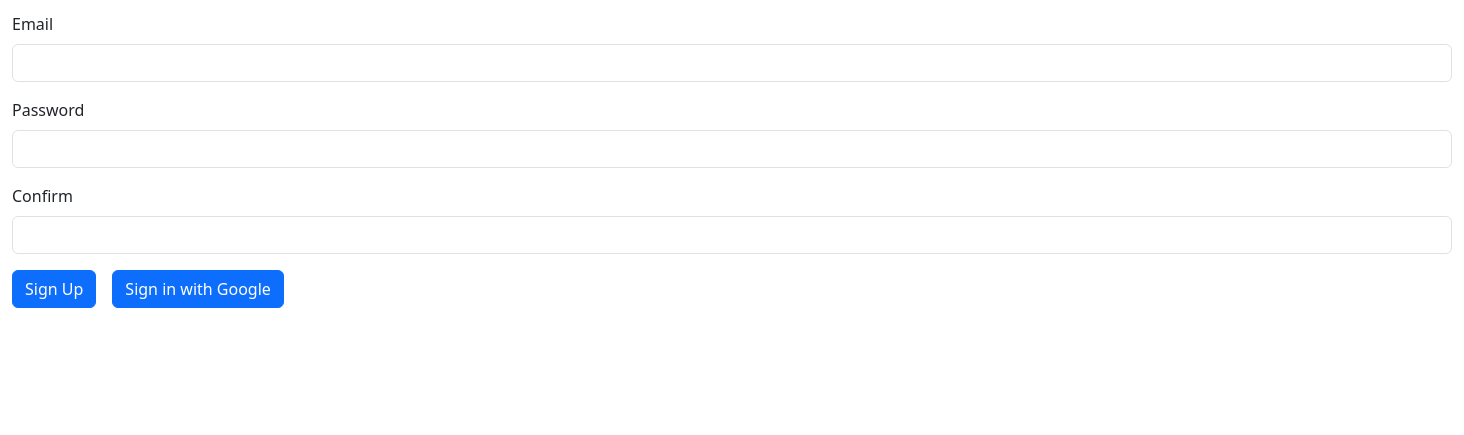
sign-up form › rejects mismatched passwords
The image size is (1464, 435).
Type "person@example.com" into the field labelled "Email".
click(732, 63); type("person@example.com")  # box x1=12 y1=44 x2=1452 y2=82
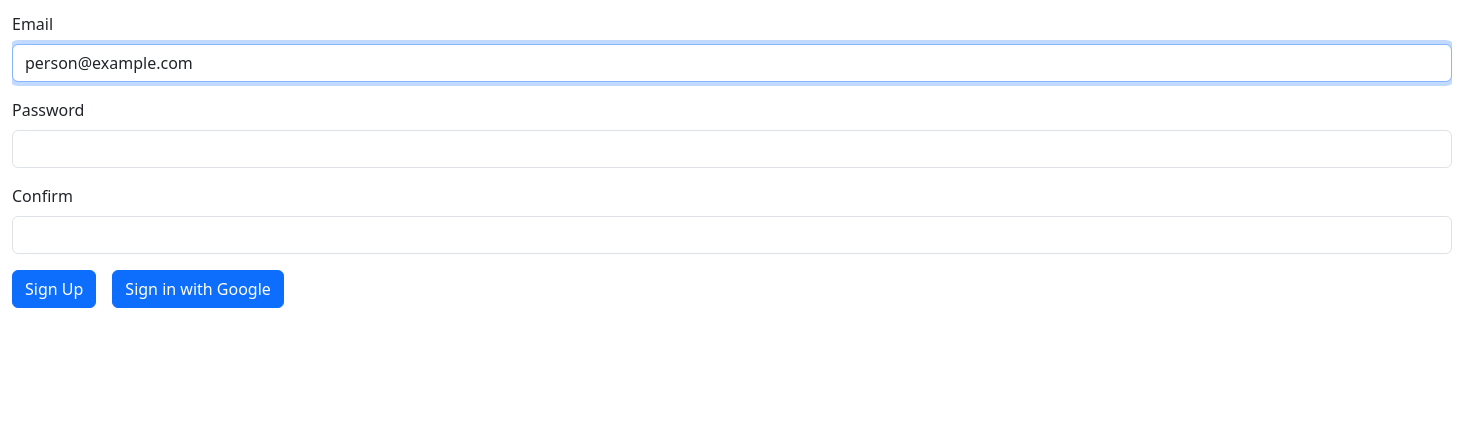
Type "secret123" into the password field labelled "Password".
click(732, 149); type("secret123")  # box x1=12 y1=130 x2=1452 y2=168
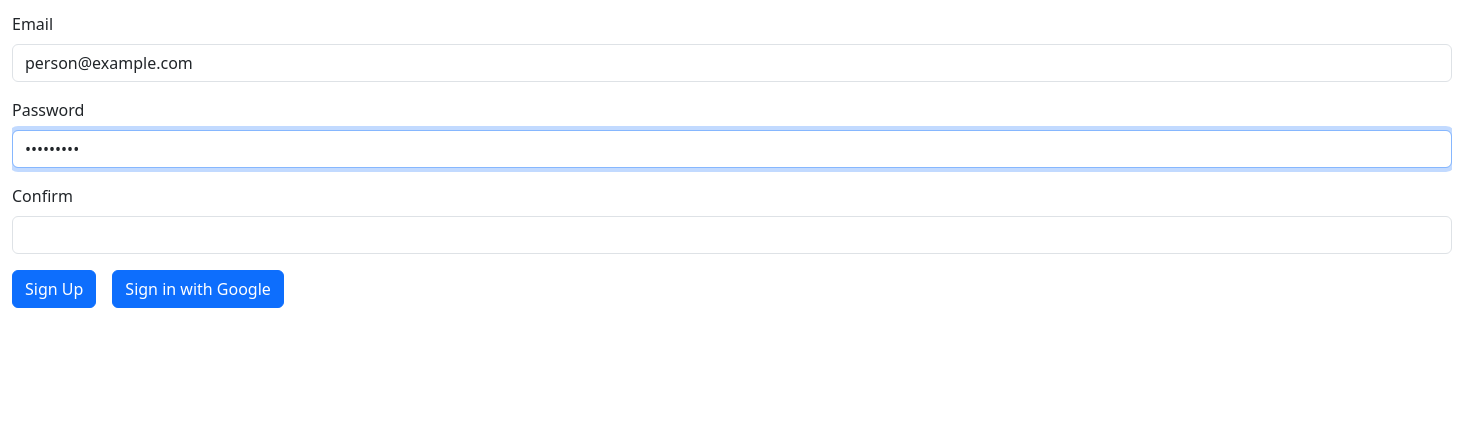
Type "secret456" into the password field labelled "Confirm".
click(732, 235); type("secret456")  # box x1=12 y1=216 x2=1452 y2=254
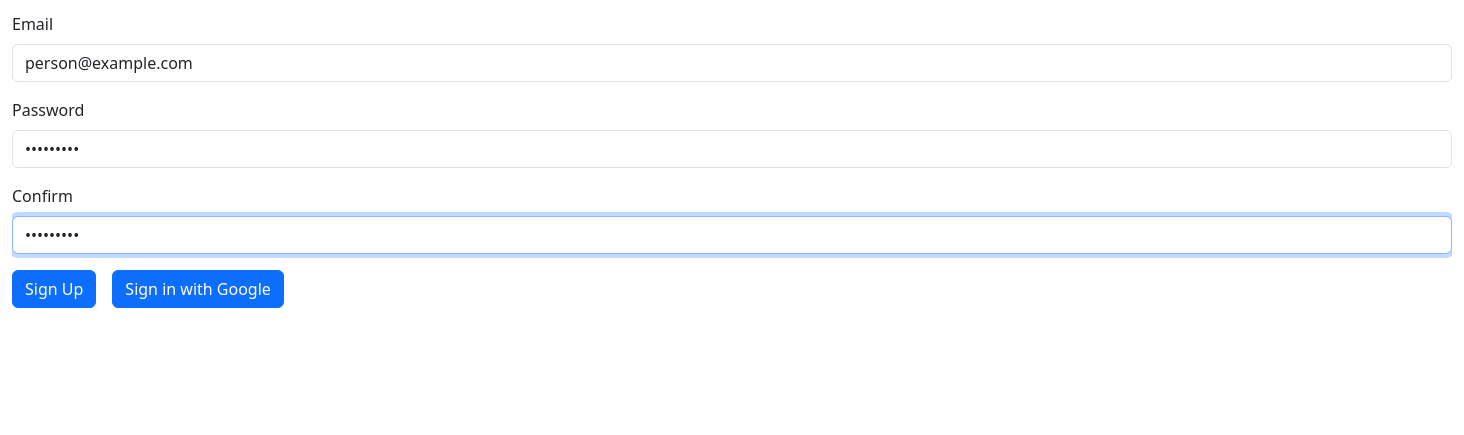
Click the button "Sign Up".
click(54, 289)  # box x1=12 y1=270 x2=96 y2=308
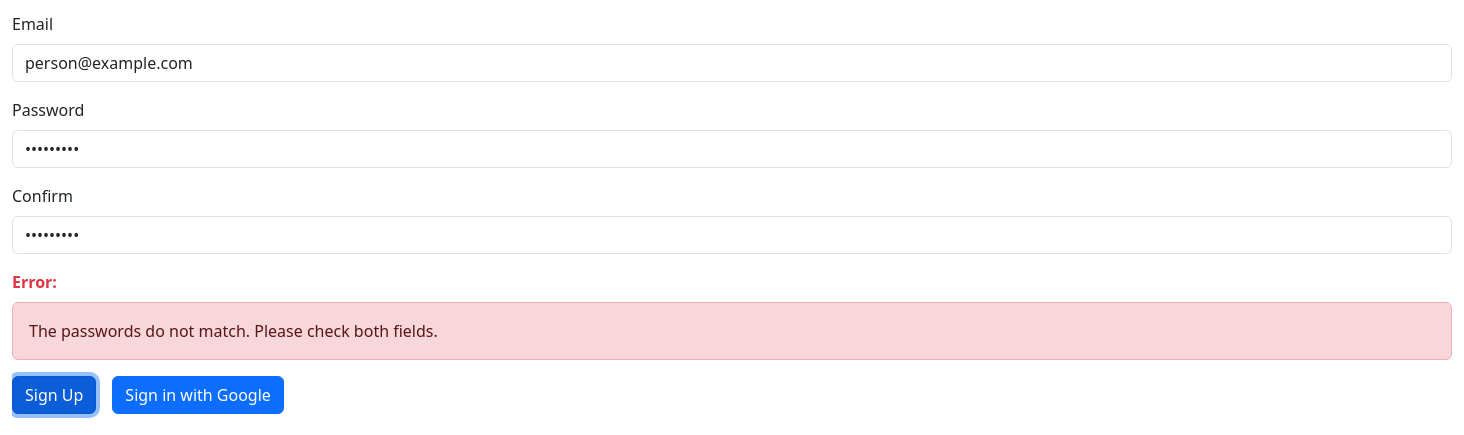
expect the message shows "passwords do not match": met, box x1=29 y1=320 x2=438 y2=342
